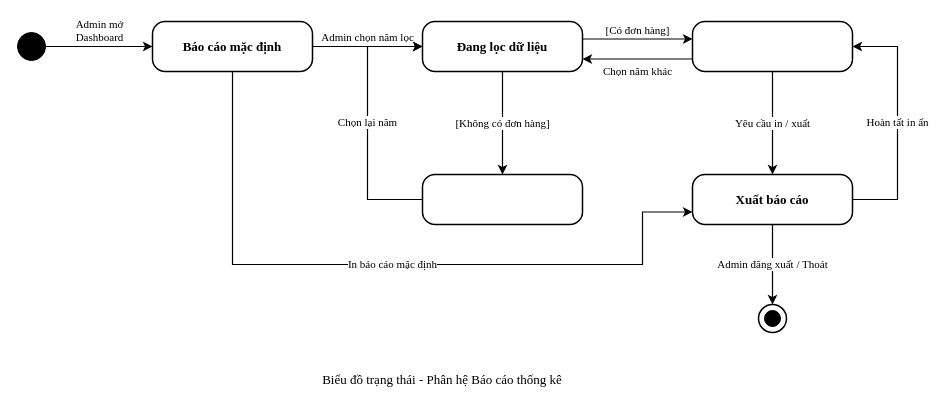
The diagram is 946 pixels wide and 411 high, and some of its shapes have lost their labels. The centre of each missing label's shape, as x and y in pixels:
"Hiển thị kết quả" belongs at point 772,46.
"Không có dữ liệu" belongs at point 502,199.
